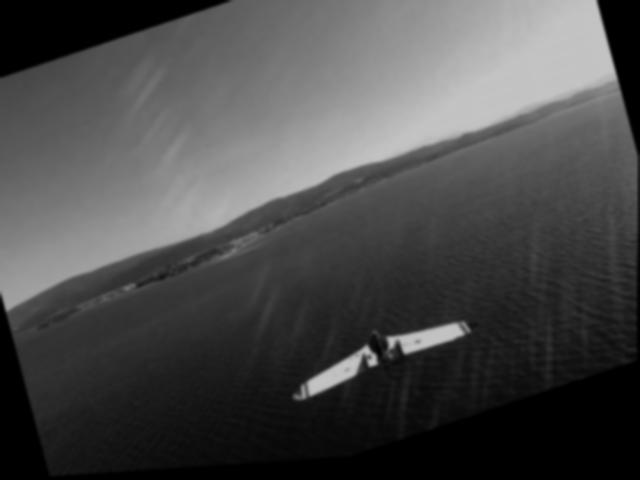hedef: (269, 282, 504, 427)
